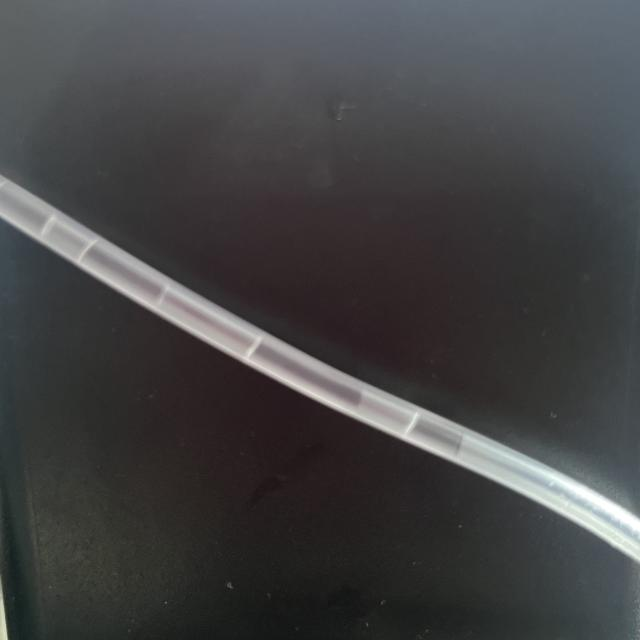bubble: (152, 281, 268, 356), (26, 212, 113, 273), (348, 390, 425, 442)
